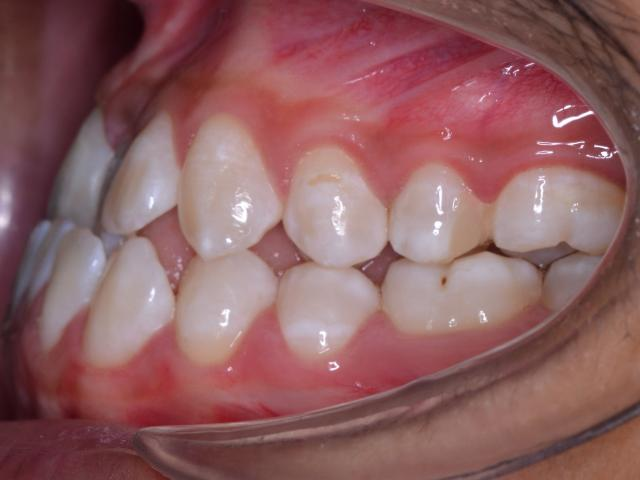canine class III 1/2: (84, 108, 280, 379)
molar class III 3/4: (380, 147, 634, 359)
